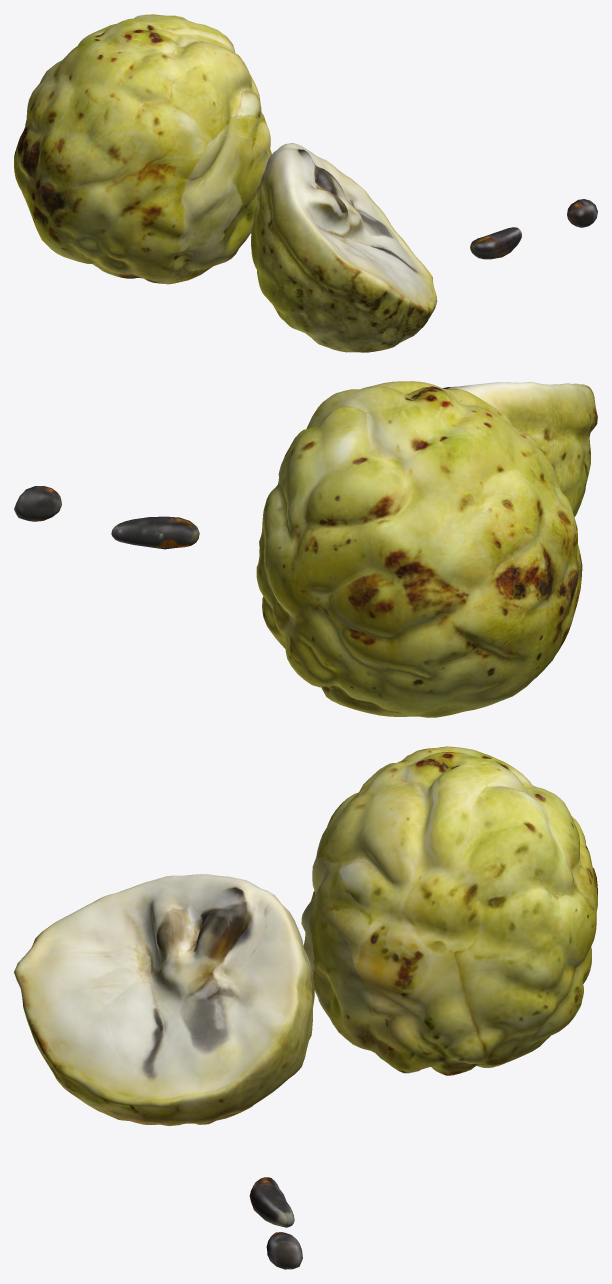
File: custardapple.glb
The picture shows the model from 3 angles, top to bottom: view 1: azimuth 30°, elevation 25°; view 2: azimuth 150°, elevation 25°; view 3: azimuth 270°, elevation 25°; orthographic projection. The views are drawn at different scales.
Bounding box in the file's own units: 2 × 0.9345 × 1.68.
1 material, 1 textured.
